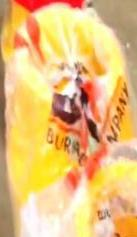cylinder: (0, 1, 137, 237)
